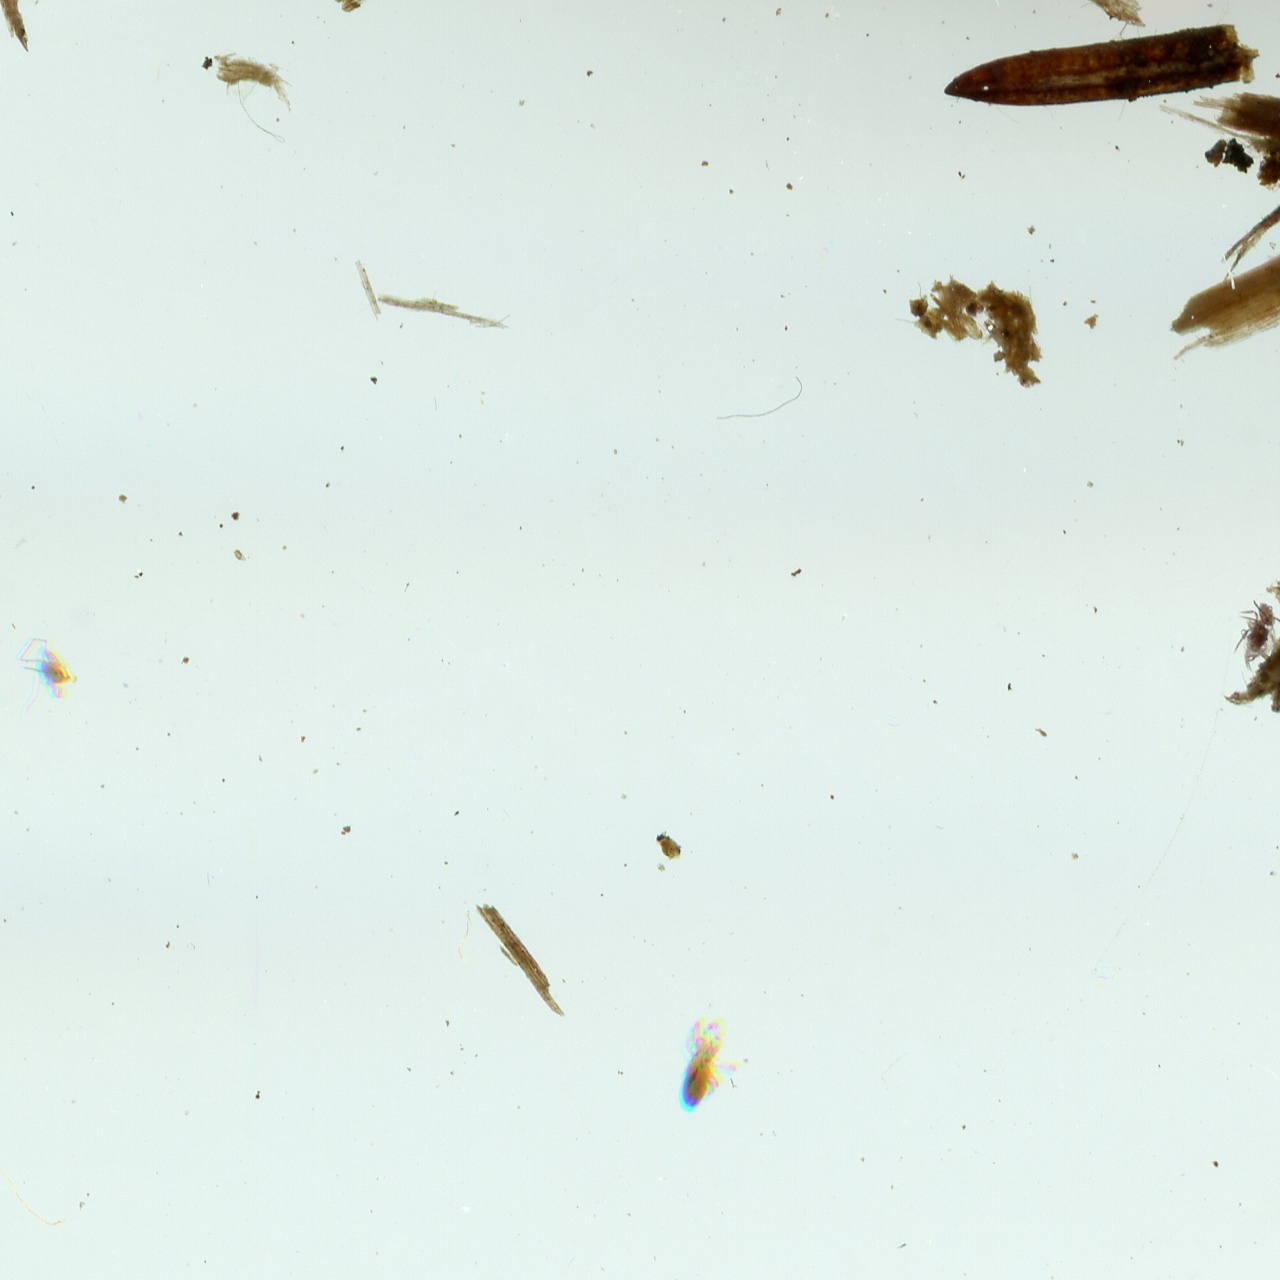arthropod: (670, 1009, 754, 1124), (0, 624, 90, 721), (1226, 594, 1280, 681)
